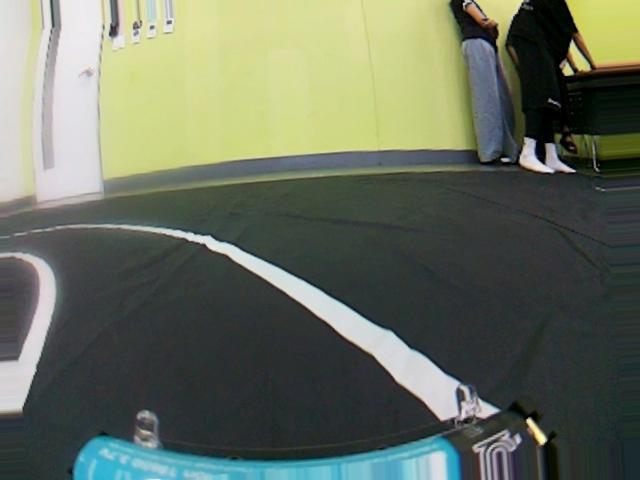left: (0, 218, 568, 479)
